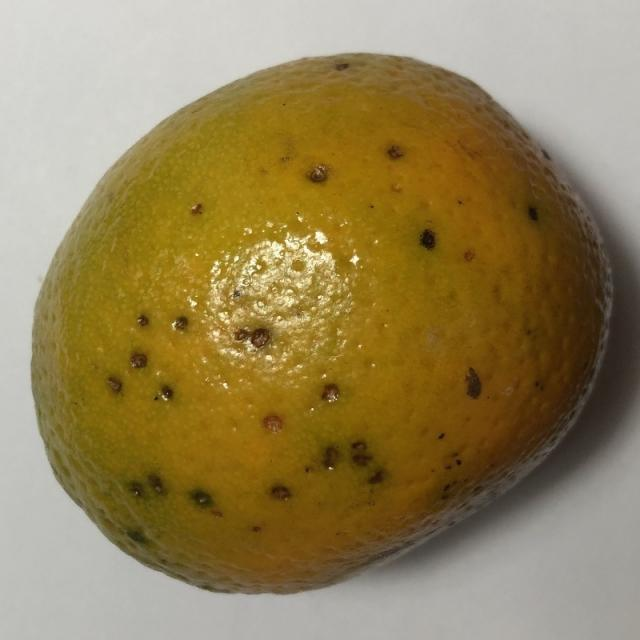blackspot: (22, 38, 626, 621)
